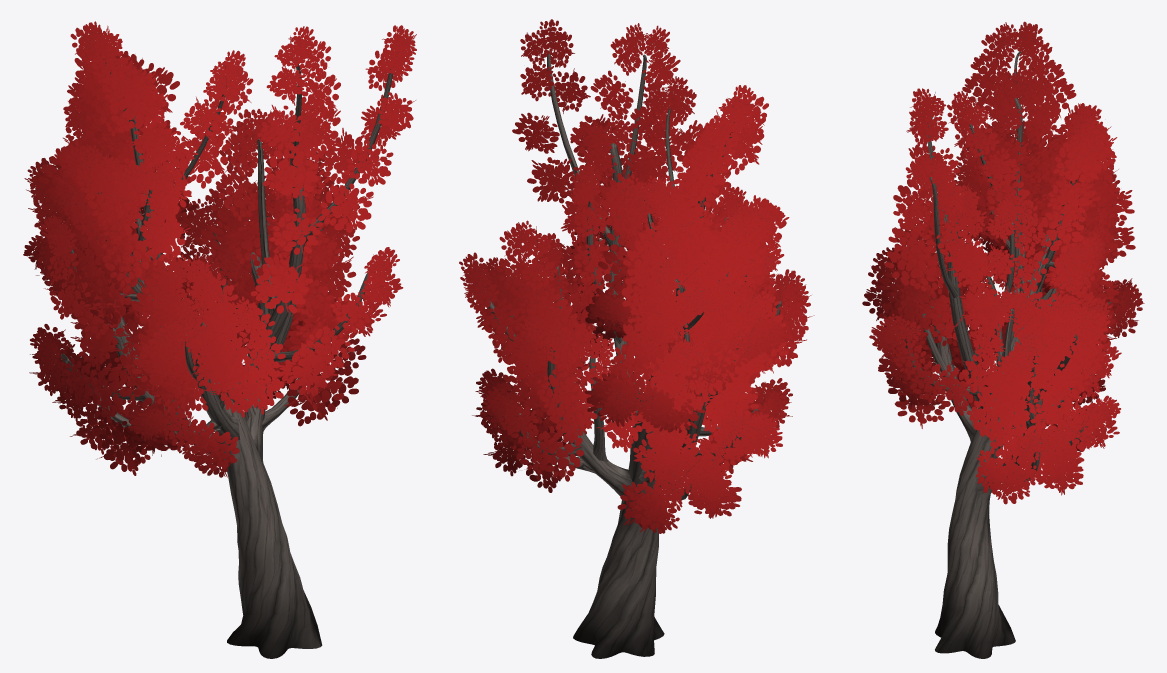
The model's file is twisted2.glb.
The picture shows the model from 3 angles, left to right: view 1: azimuth 30°, elevation 25°; view 2: azimuth 150°, elevation 25°; view 3: azimuth 270°, elevation 25°; orthographic projection. The views are drawn at different scales.
Visible parts, largest first — view 1: TwistedTree_2; view 2: TwistedTree_2; view 3: TwistedTree_2.
Boxes of the visible parts, left/top/right/bottom form: TwistedTree_2: left=23, top=21, right=416, bottom=658; TwistedTree_2: left=459, top=19, right=814, bottom=658; TwistedTree_2: left=862, top=21, right=1144, bottom=658.
Bounding box in the file's own units: 5.28 × 9.47 × 4.6.
Materials: 2 (2 with a texture image).
